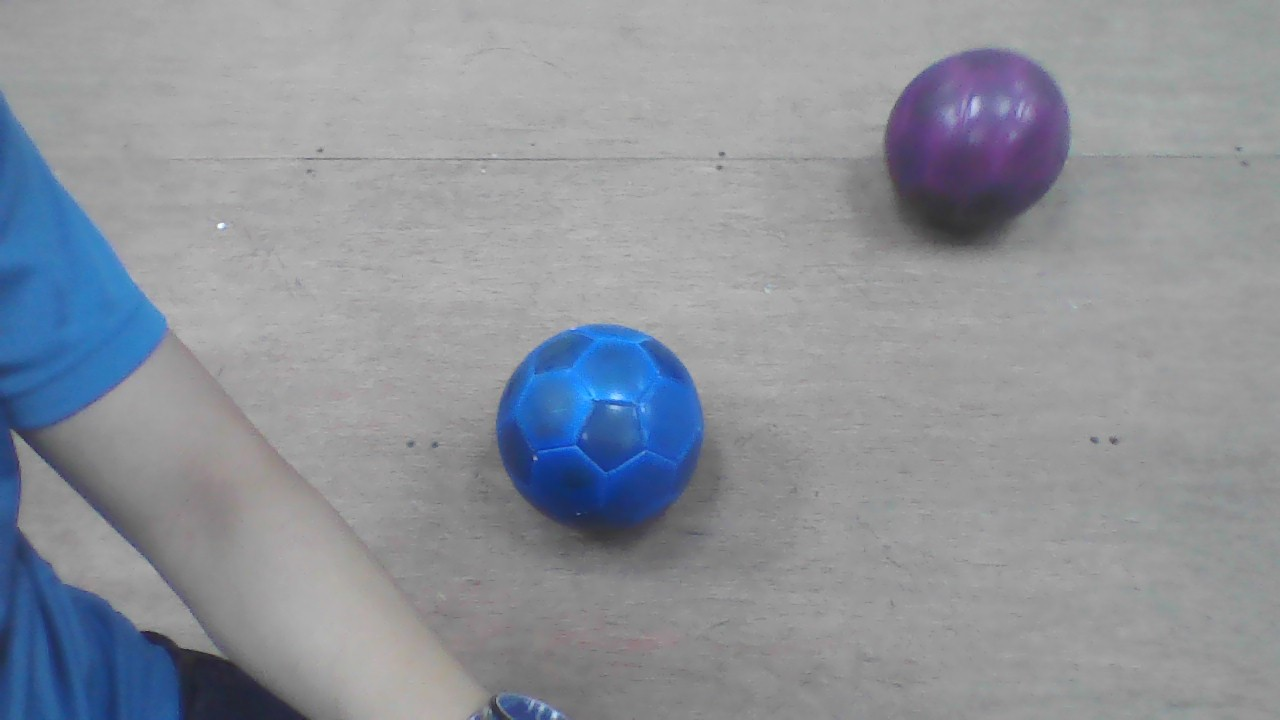Blue: (494, 324, 700, 530)
Purple: (885, 50, 1071, 231)
